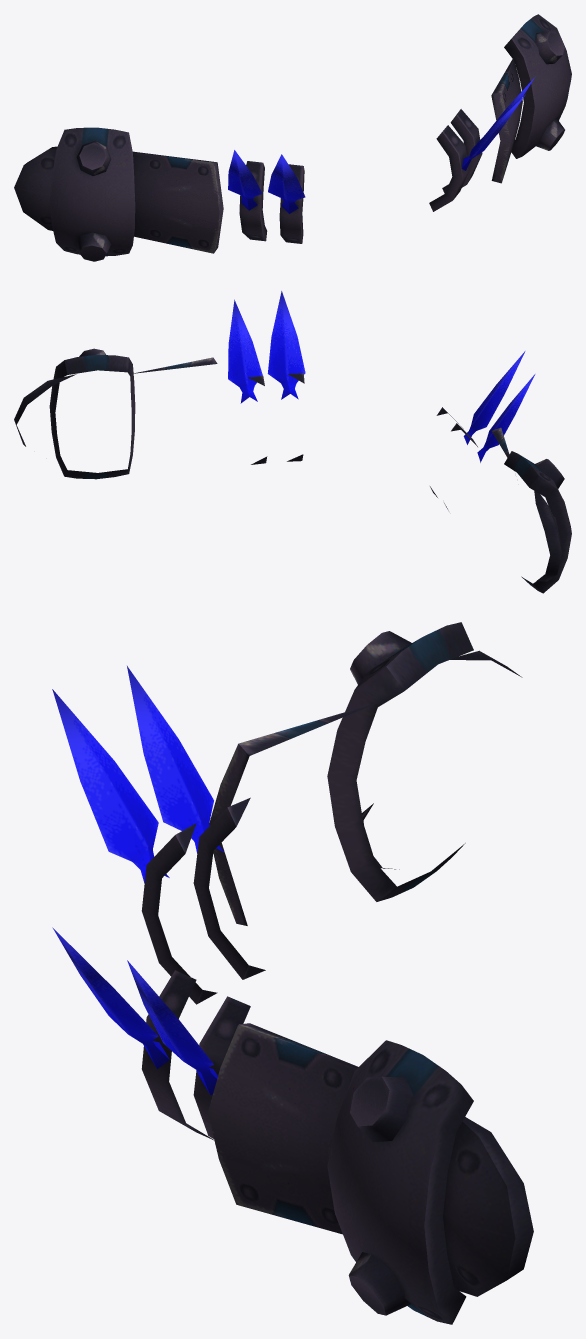
Rendered from Part_Stalker_pads.glb.
3 renders of one model, top to bottom at view 1: azimuth 30°, elevation 25°; view 2: azimuth 150°, elevation 25°; view 3: azimuth 270°, elevation 25°, orthographic. The views are drawn at different scales.
Visible parts, largest first — view 1: parts.model_s_pads_fixed-Mesh[0]; view 2: parts.model_s_pads_fixed-Mesh[0]; view 3: parts.model_s_pads_fixed-Mesh[0].
Part boxes in pixels (box(x1,y1,x2,y2)): parts.model_s_pads_fixed-Mesh[0]: box(14, 14, 571, 261); parts.model_s_pads_fixed-Mesh[0]: box(14, 291, 571, 593); parts.model_s_pads_fixed-Mesh[0]: box(52, 622, 533, 1324).
Bounding box in the file's own units: 1.3 × 0.3291 × 0.4932.
Materials: 1 (1 with a texture image).
